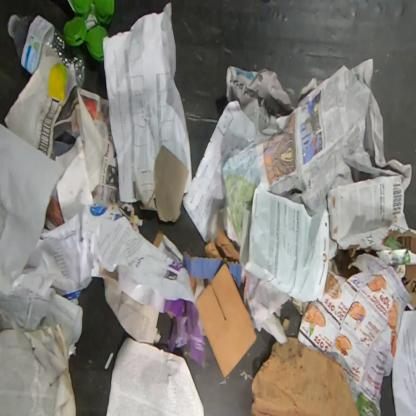cardboard: (250, 336, 361, 415), (152, 217, 245, 303), (194, 263, 257, 379), (381, 230, 415, 256), (401, 264, 415, 311)
rigid_plastic: (8, 13, 85, 86), (62, 0, 118, 62)
